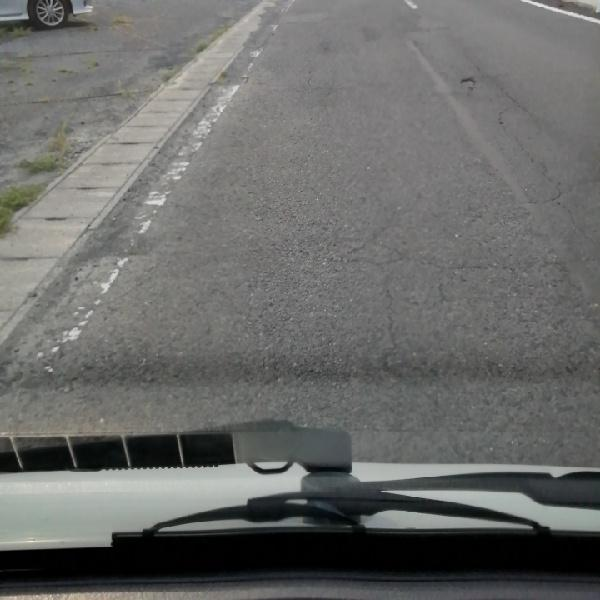D00: (491, 86, 580, 205)
D20: (335, 224, 597, 461)
D40: (456, 71, 477, 94)
D44: (88, 9, 286, 316)
